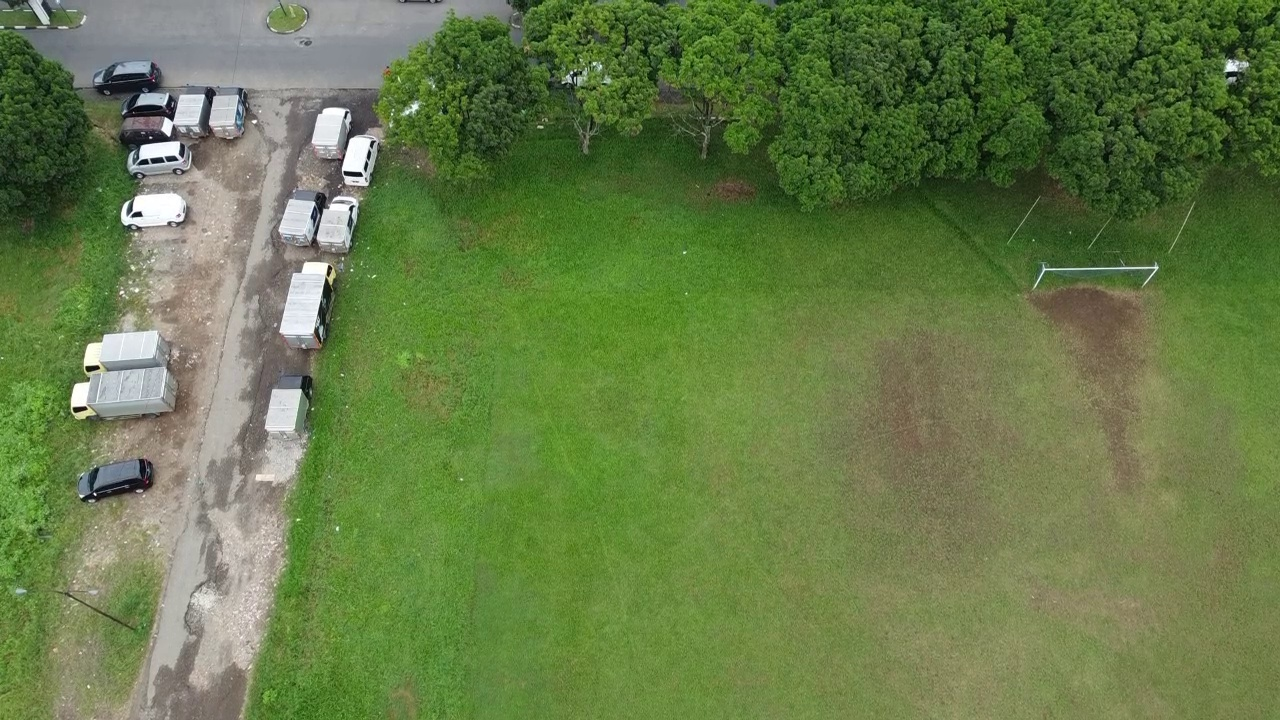mobil: (79, 448, 159, 505), (120, 139, 197, 181), (120, 189, 189, 234), (334, 128, 381, 189), (92, 60, 163, 95), (116, 88, 182, 122), (114, 114, 178, 146)
